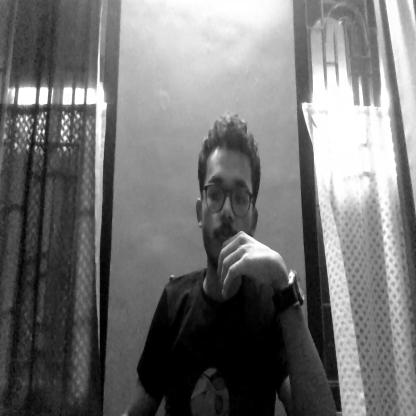Normal: (191, 105, 266, 304)
